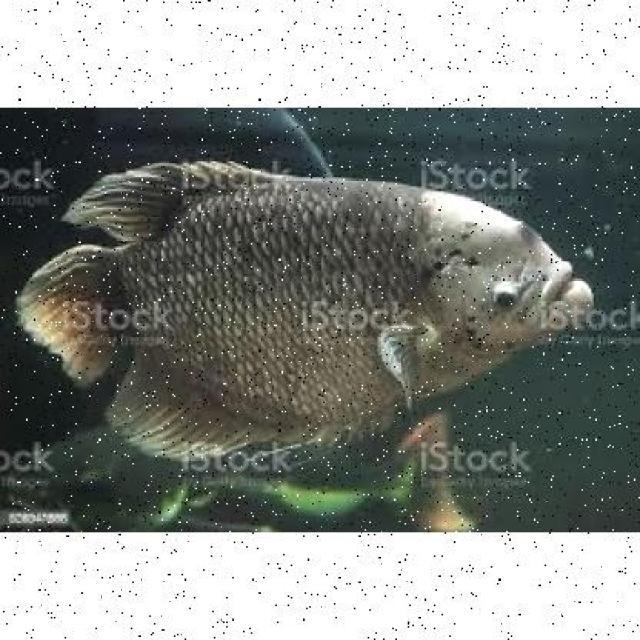gurame: (16, 159, 596, 459)
